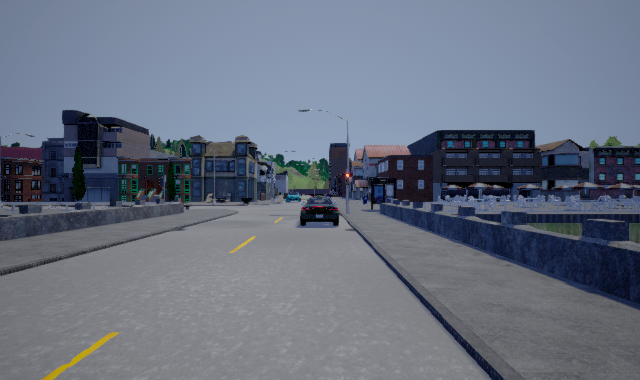vehicle: (300, 195, 339, 226)
